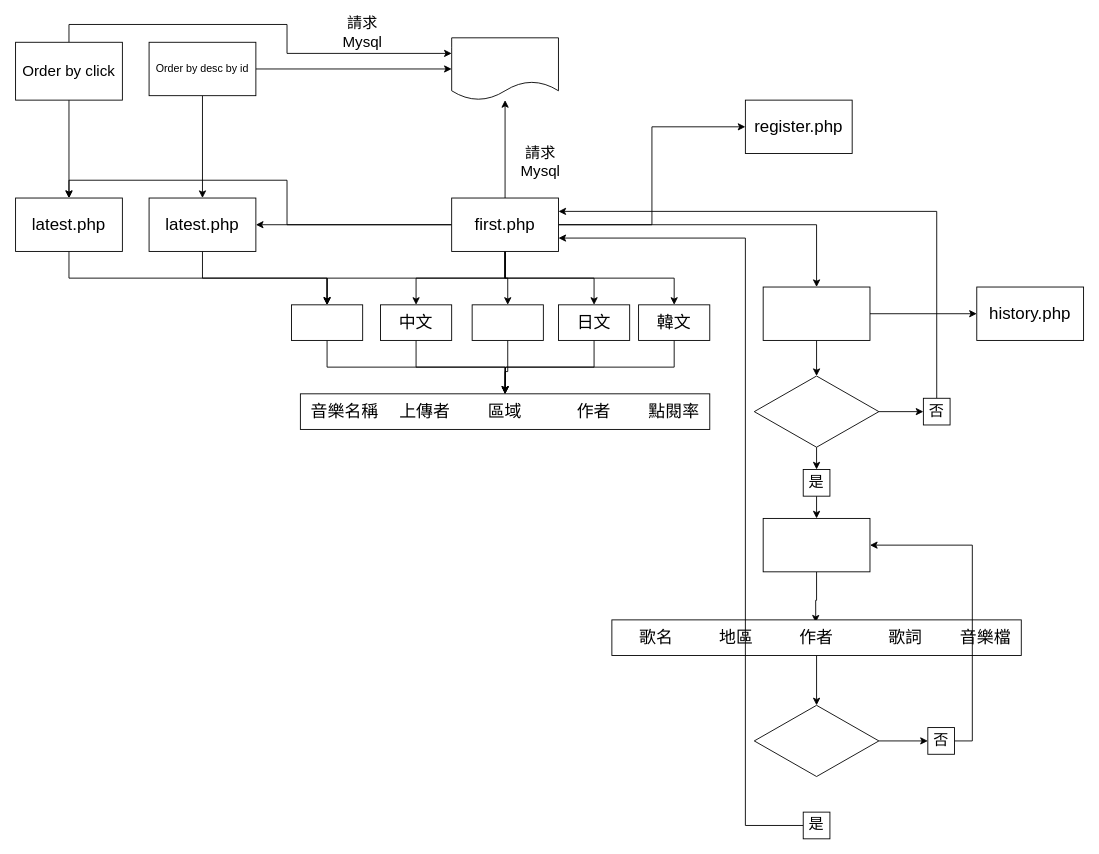
Image size: 1099x854. Some labels were removed from this diagram. The centre of each missing label's shape, as x and y in pixels:
login.php: the point at 816,313
musicl.sql: the point at 504,68
upload.php: the point at 816,545
全部: the point at 327,322
可選擇是否上傳音樂: the point at 816,411
是否上傳成功?: the point at 816,740
英文: the point at 507,322
